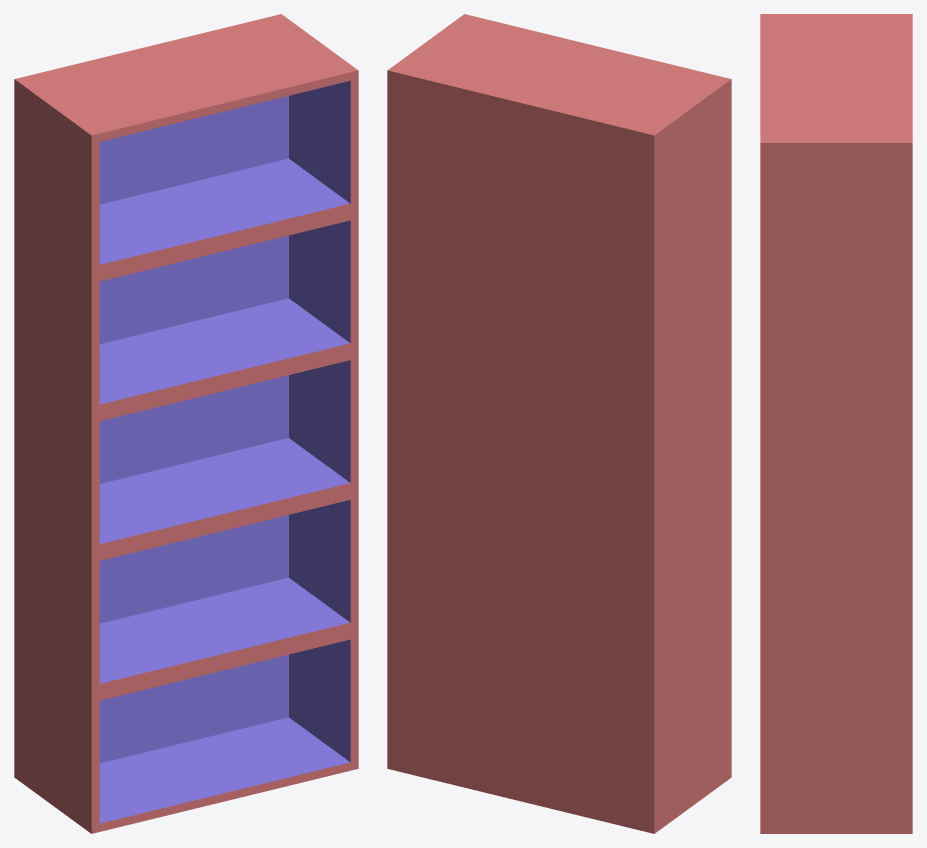
File: Bookshelf.fbx
3 views of the same model, side by side, from view 1: azimuth 30°, elevation 25°; view 2: azimuth 150°, elevation 25°; view 3: azimuth 270°, elevation 25° (orthographic).
Visible parts, largest first — view 1: Boiokshelf; view 2: Boiokshelf; view 3: Boiokshelf.
Part boxes in pixels (bbox=[...]): Boiokshelf: bbox=[14, 14, 358, 833]; Boiokshelf: bbox=[387, 14, 731, 833]; Boiokshelf: bbox=[760, 14, 912, 833].
Size of the model in its own units: 100 by 250 by 50.
